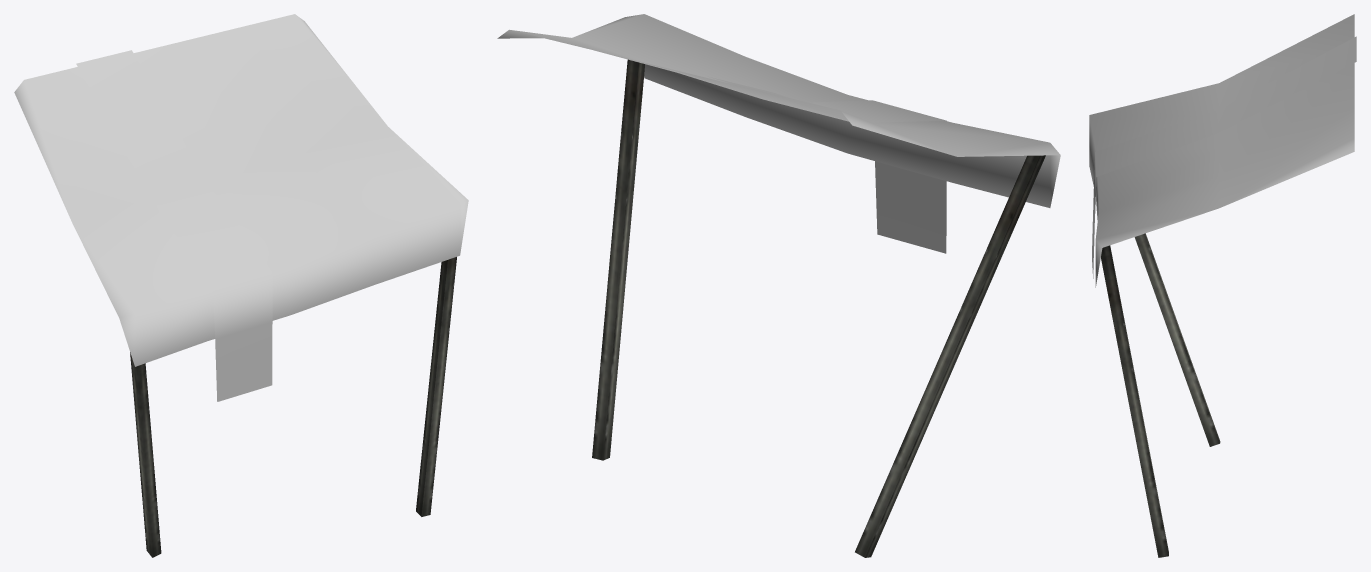
3 renders of one model, left to right at view 1: azimuth 30°, elevation 25°; view 2: azimuth 150°, elevation 25°; view 3: azimuth 270°, elevation 25°, orthographic. The views are drawn at different scales.
Visible parts, largest first — view 1: object111; view 2: object111; view 3: object111.
Part boxes in pixels (x1=…): object111: x1=14, y1=14, x2=468, y2=557; object111: x1=497, y1=14, x2=1060, y2=557; object111: x1=1089, y1=14, x2=1356, y2=557.
Bounding box in the file's own units: 281 × 332 × 197.
